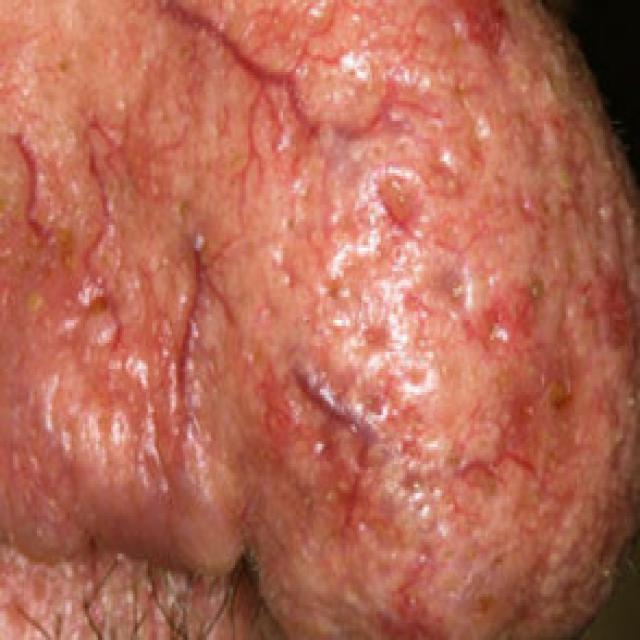Rosacea: (1, 0, 630, 628)
